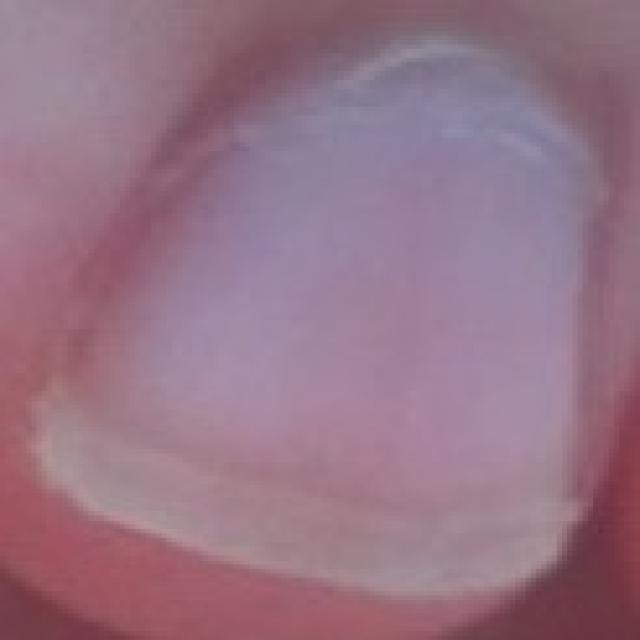Nail: (43, 90, 599, 598)
